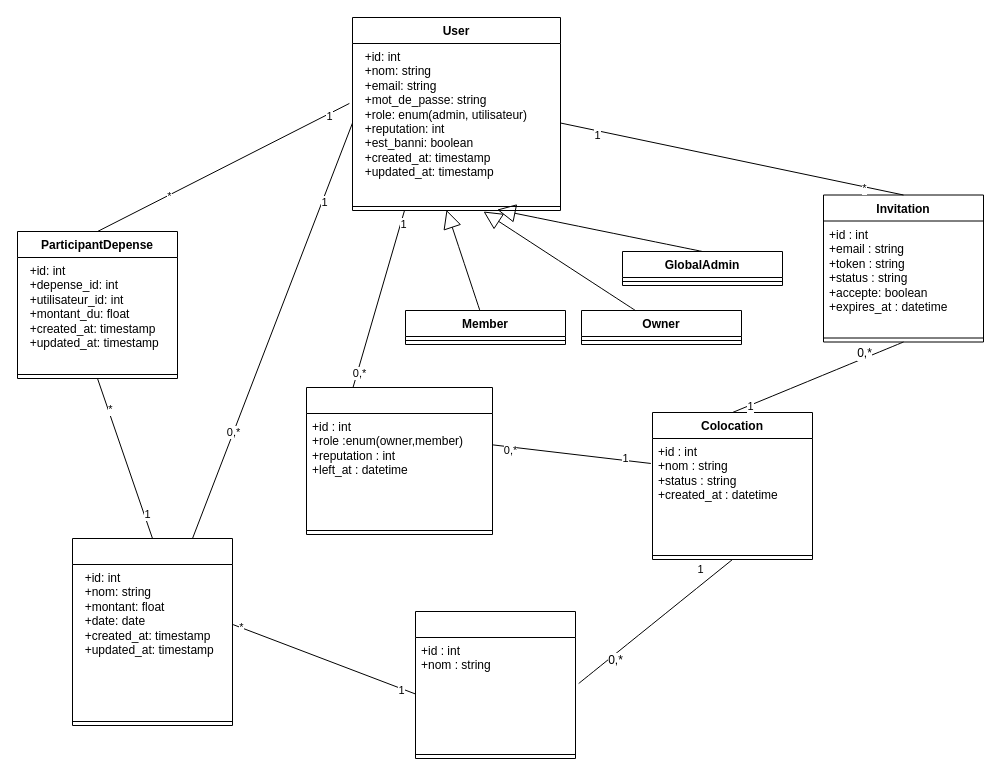
The diagram is 1001 pixels wide and 776 high, and some of its shapes have lost their labels. The box of each missing label's shape, as (x1, y1, x2, y2) in pixels:
Adhesion: (306, 386, 492, 534)
Categorie: (414, 610, 576, 758)
Depense: (72, 538, 232, 726)
